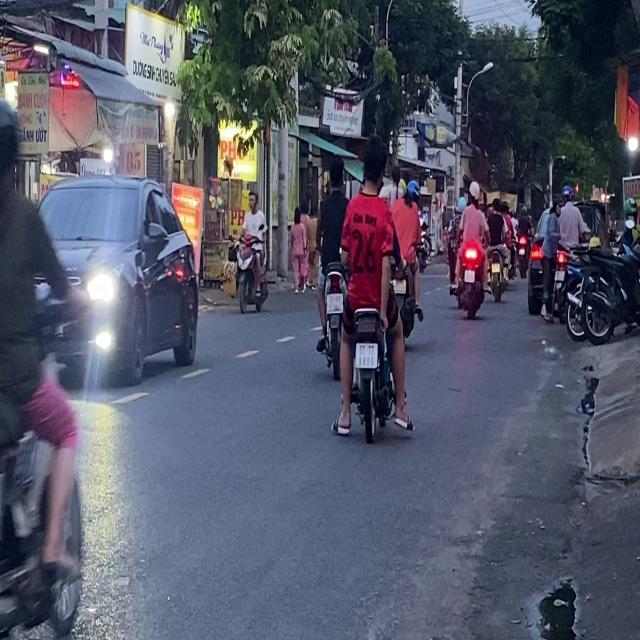helmet: (0, 95, 22, 189)
licenseplate: (0, 86, 92, 634), (335, 134, 414, 442), (313, 151, 351, 377)
motorcyclist: (359, 135, 388, 193), (326, 155, 346, 191)
nohelmet: (356, 343, 378, 368), (326, 293, 344, 313)
